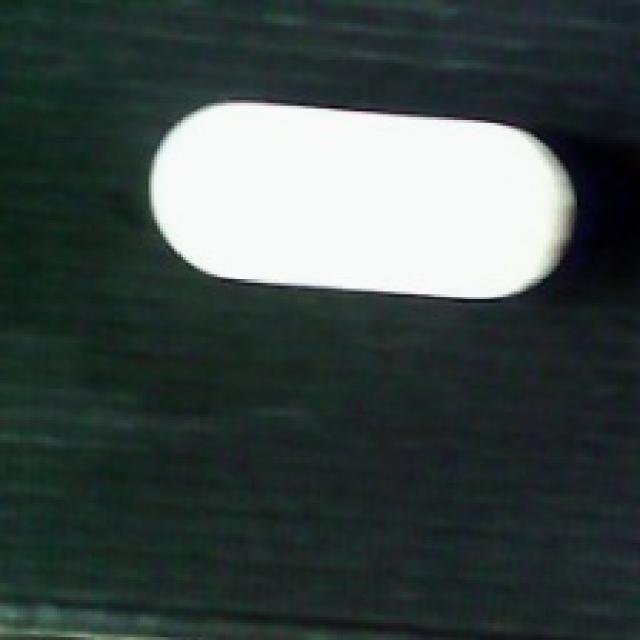no-defect: (143, 100, 577, 303)
